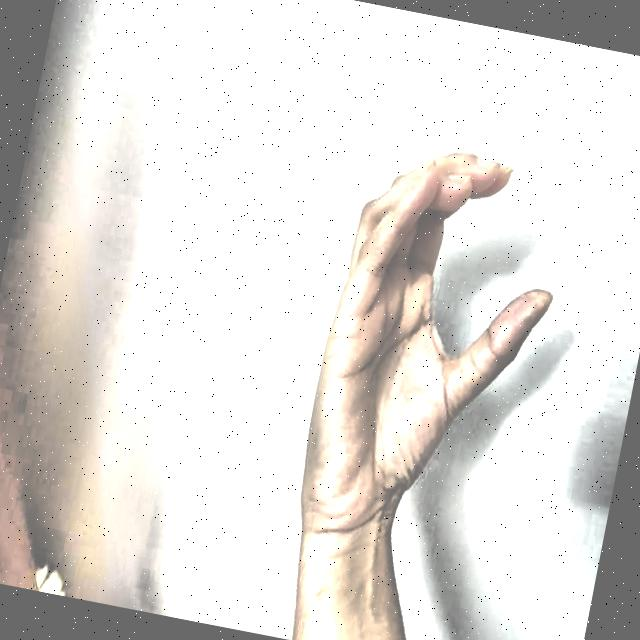A: (266, 108, 606, 608)
